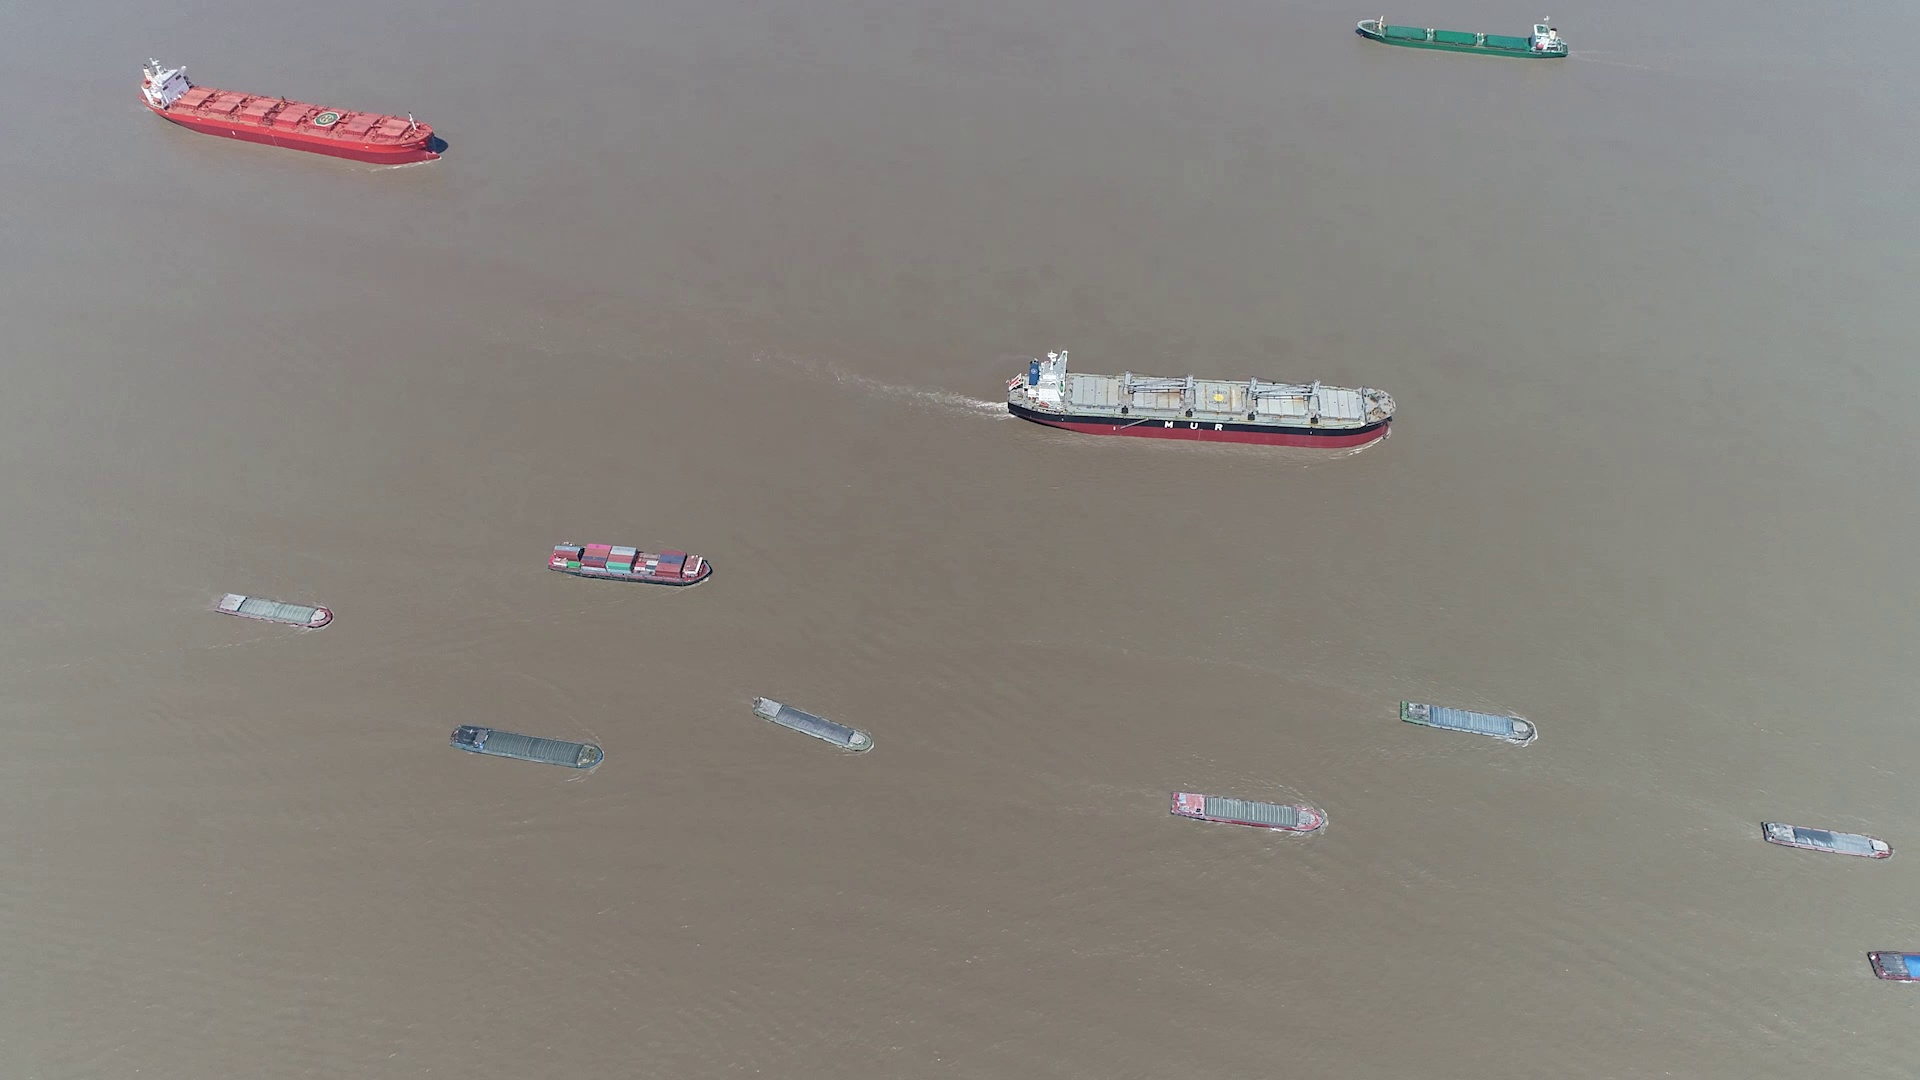ship: (1001, 353, 1395, 448), (140, 55, 442, 164), (1357, 18, 1571, 61), (547, 541, 713, 585), (1170, 791, 1331, 836), (754, 696, 876, 756), (452, 727, 603, 771), (1400, 702, 1539, 742), (1759, 822, 1896, 861), (215, 593, 334, 629), (1867, 949, 1919, 986)
